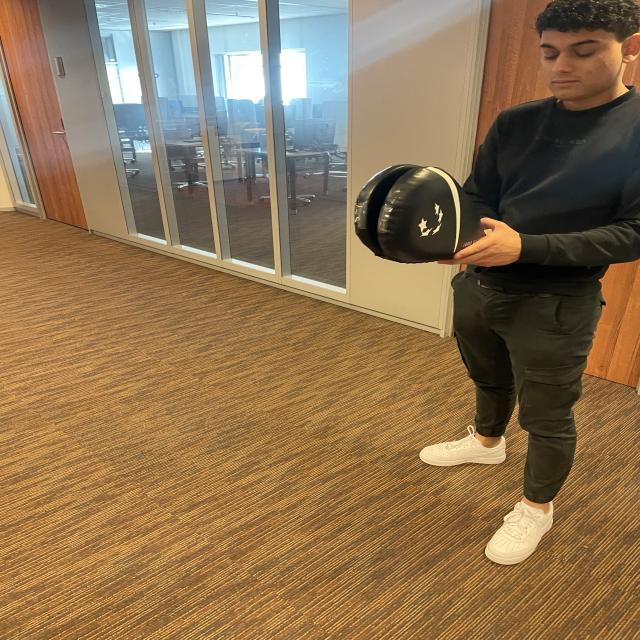paddle: (356, 163, 482, 264)
